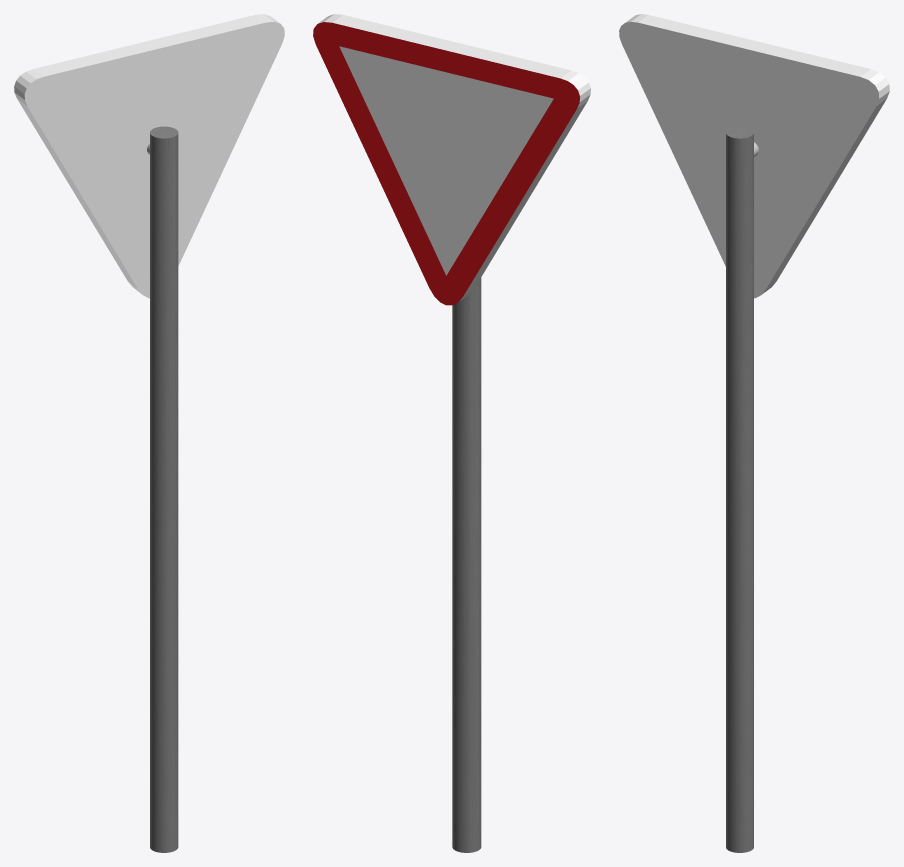
Rendered from znacka_prednost.fbx.
3 renders of one model, left to right at view 1: azimuth 30°, elevation 25°; view 2: azimuth 150°, elevation 25°; view 3: azimuth 330°, elevation 25°, orthographic. The views are drawn at different scales.
Visible parts, largest first — view 1: Cube; view 2: Cube; view 3: Cube.
Part boxes in pixels (<box>): Cube: <box>14,14,284,852</box>; Cube: <box>313,14,590,852</box>; Cube: <box>619,14,889,852</box>.
Size of the model in its own units: 135 by 392 by 24.24.
